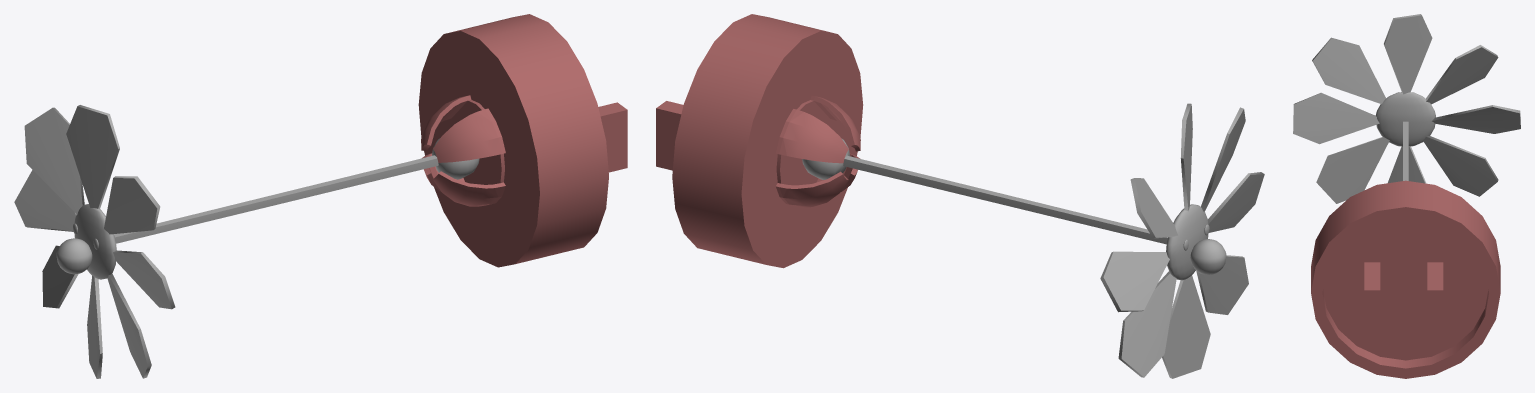
File: Fan.fbx
3 views of the same model, side by side, from view 1: azimuth 30°, elevation 25°; view 2: azimuth 150°, elevation 25°; view 3: azimuth 270°, elevation 25° (orthographic). The views are drawn at different scales.
Visible parts, largest first — view 1: slot1, fan1; view 2: slot1, fan1; view 3: slot1, fan1.
Part boxes in pixels (bbox=[...]): slot1: bbox=[418, 14, 627, 267]; fan1: bbox=[14, 105, 479, 378]; slot1: bbox=[656, 14, 863, 268]; fan1: bbox=[802, 103, 1264, 378]; slot1: bbox=[1311, 180, 1500, 378]; fan1: bbox=[1293, 14, 1520, 203].
Size of the model in its own units: 5.16 by 2.38 by 2.4.
